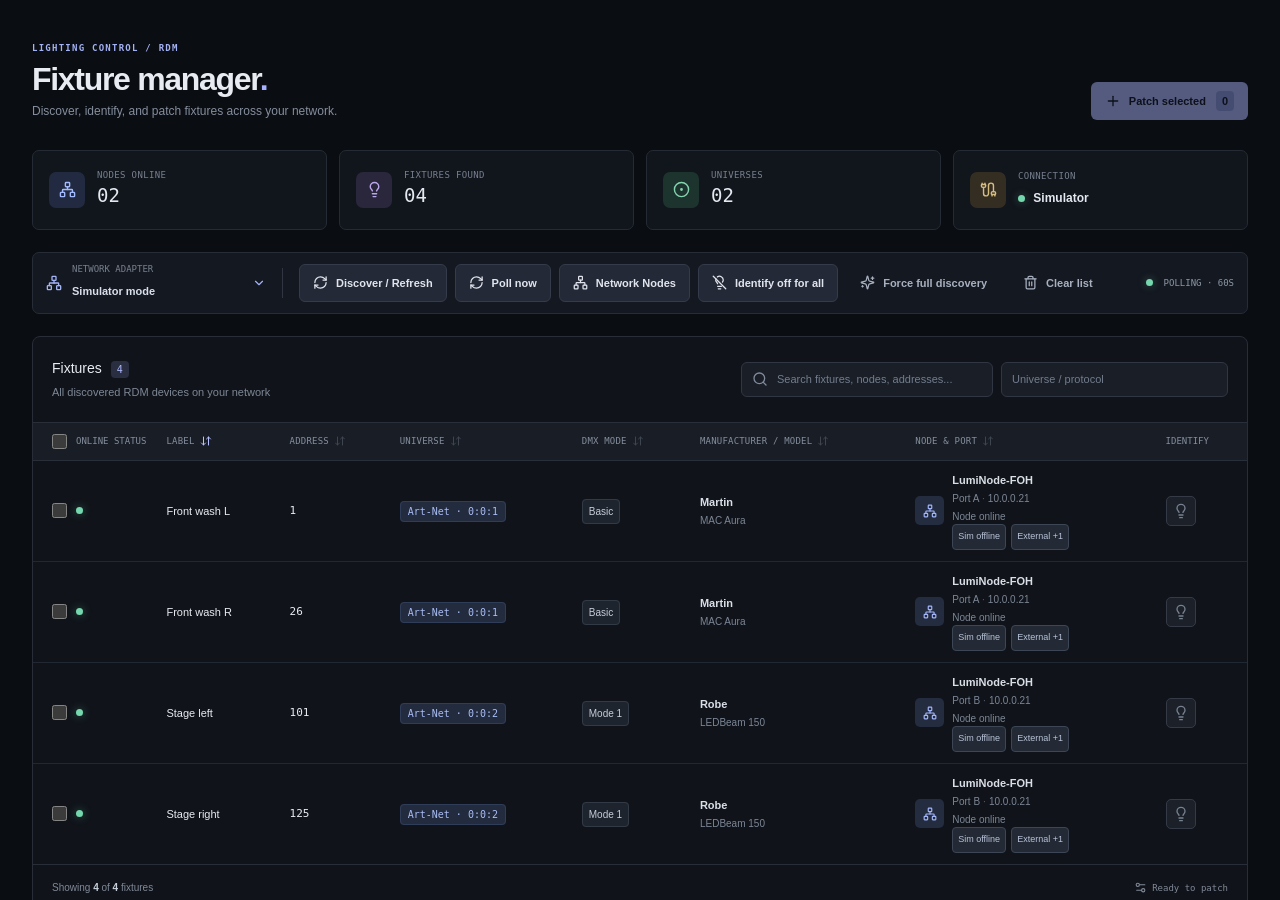
Test: opens and closes the mode submenu with the keyboard
The image size is (1280, 900).
Later steps or results of the test are not shown.
Right-click the row that starts with "Front wash L" at (640, 511), box [33,460,1247,561]
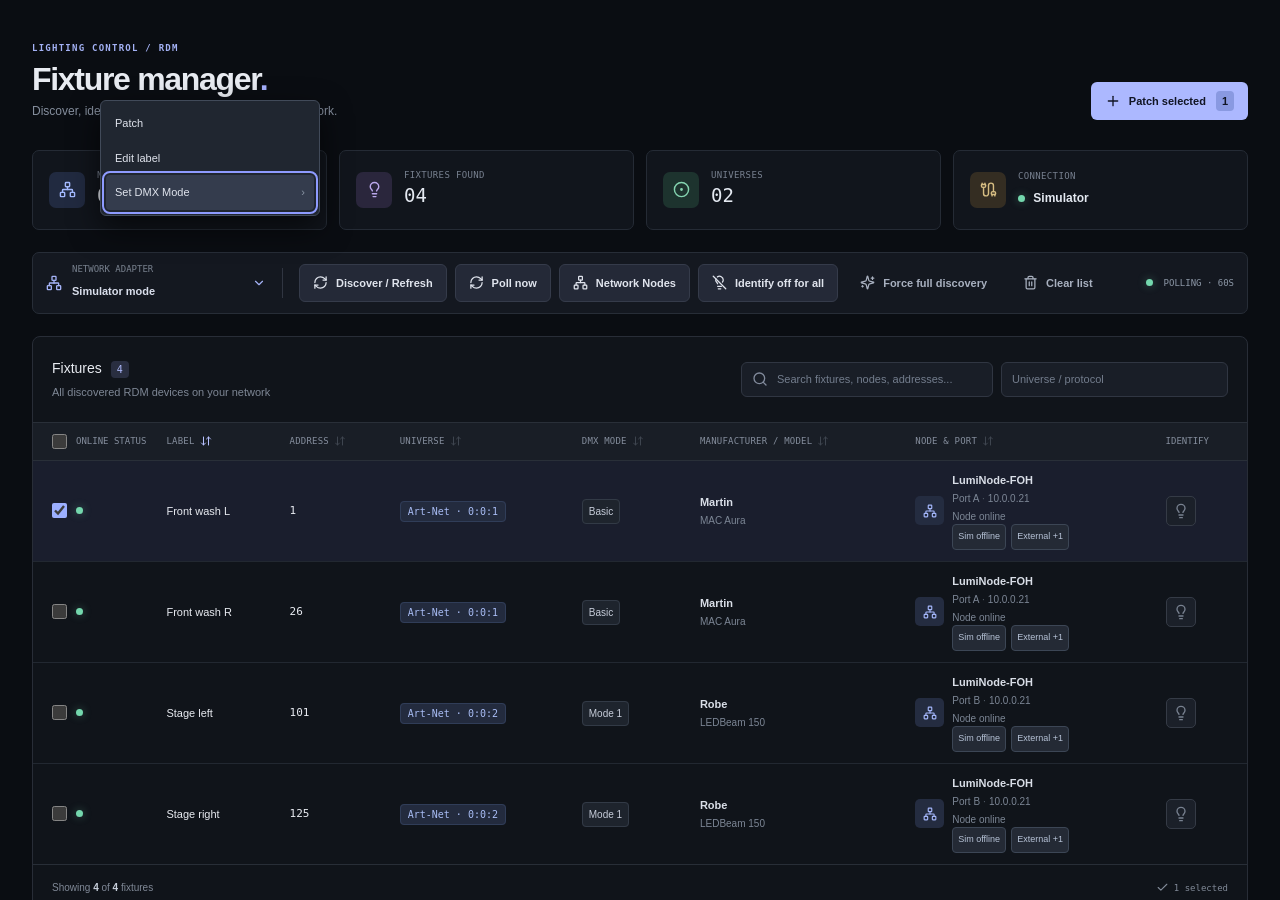
Press ArrowRight in the menu item "Set DMX Mode ›", box [106,175,314,210]
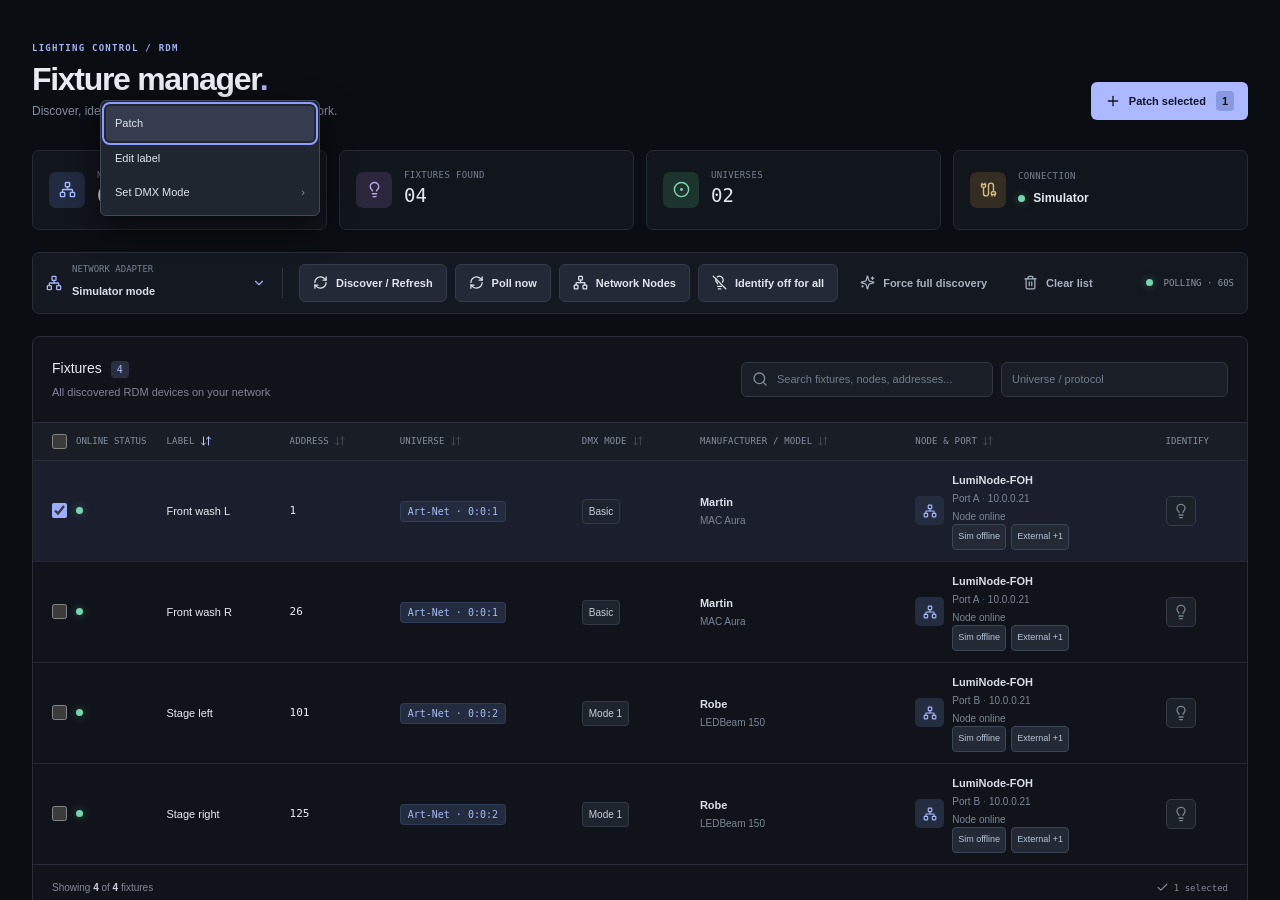
Result: the menu is shown at [100,100,320,216]
